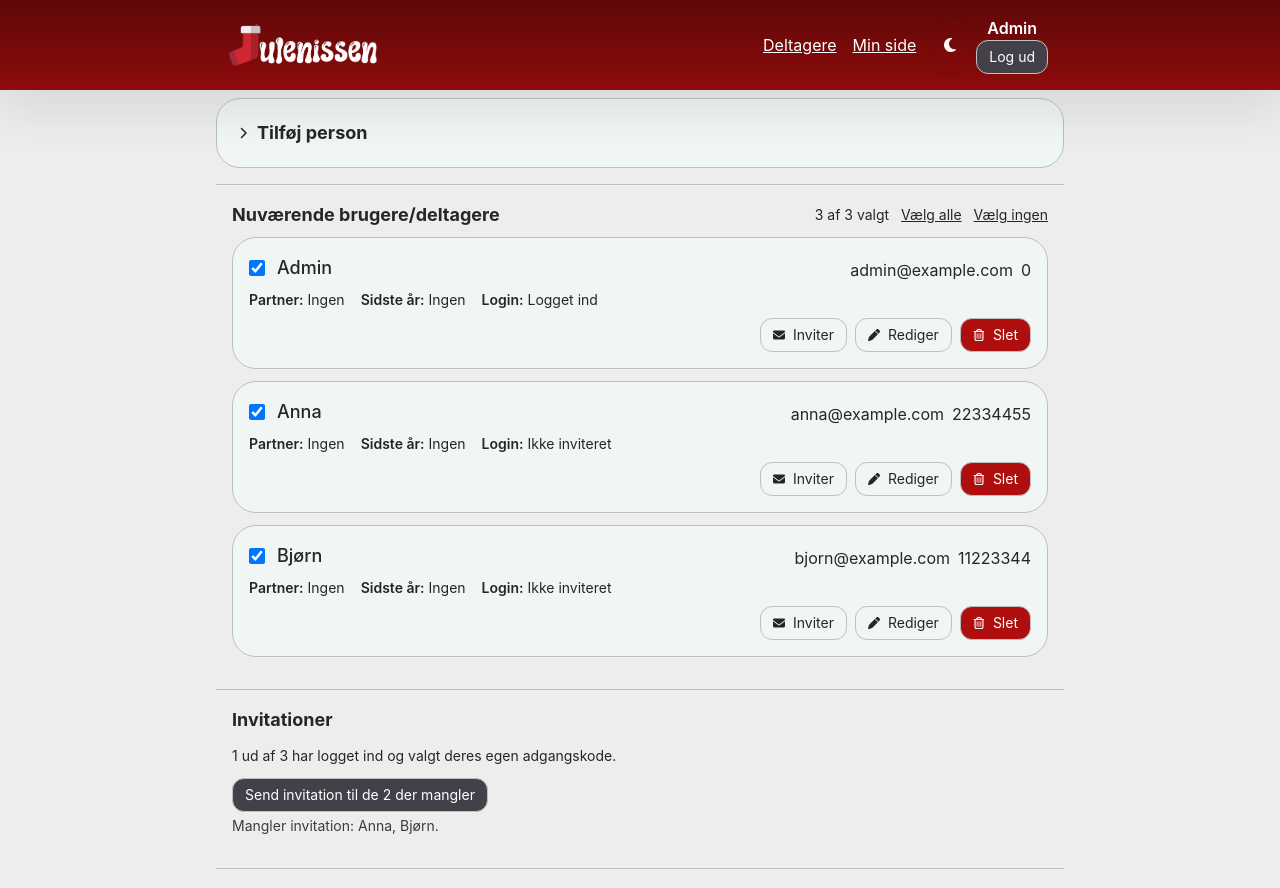
Test case: inviting people from the admin page › names whoever the email couldn't be sent to, and why
The width and height of the screenshot is (1280, 888).
Step 1. Click the button "Send invitation til de 2 der mangler" → coordinates (360, 795), box left=232, top=778, right=488, bottom=812
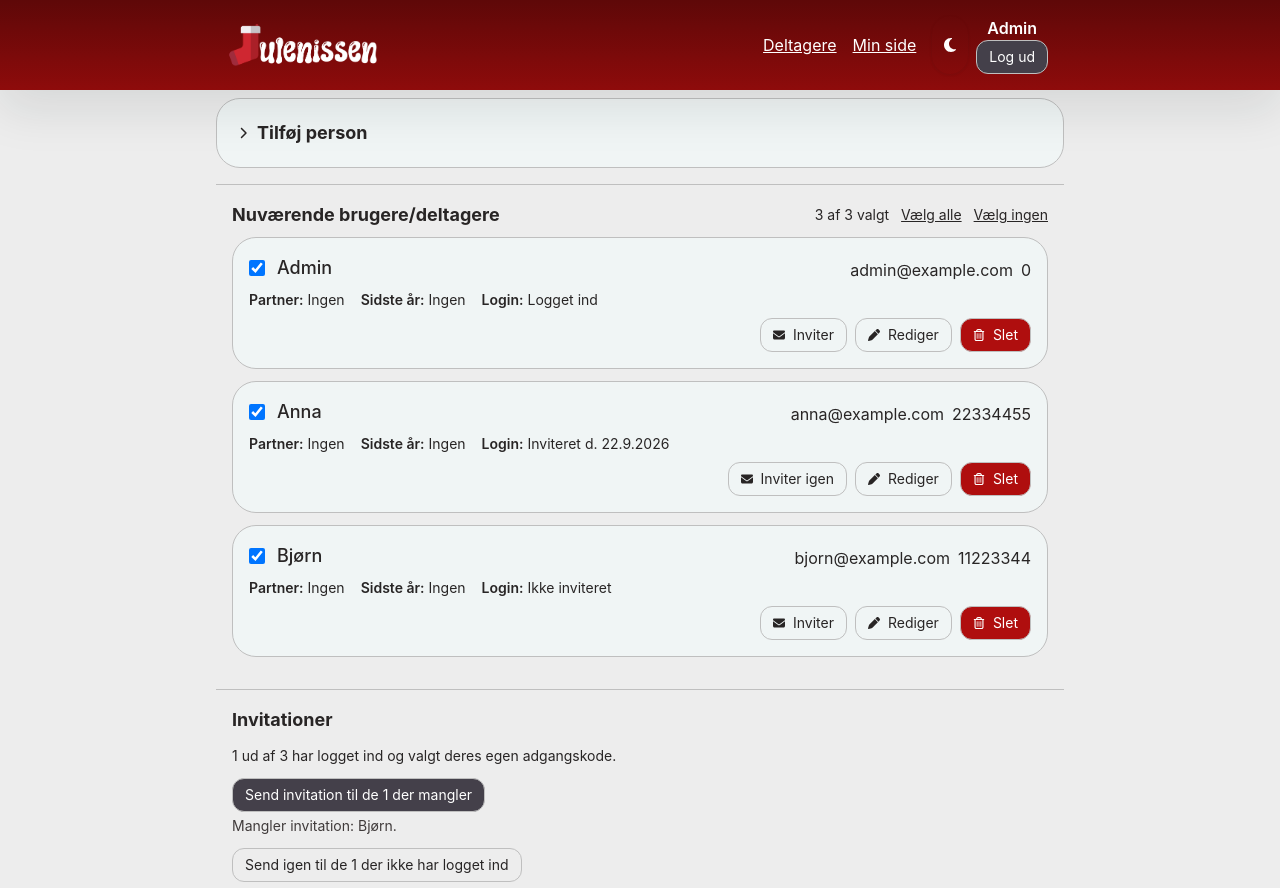
expect the button "Send invitation til de 1 der mangler" is shown: met, box left=232, top=778, right=485, bottom=812
